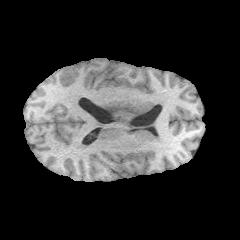glioma: (106, 93, 142, 126)
